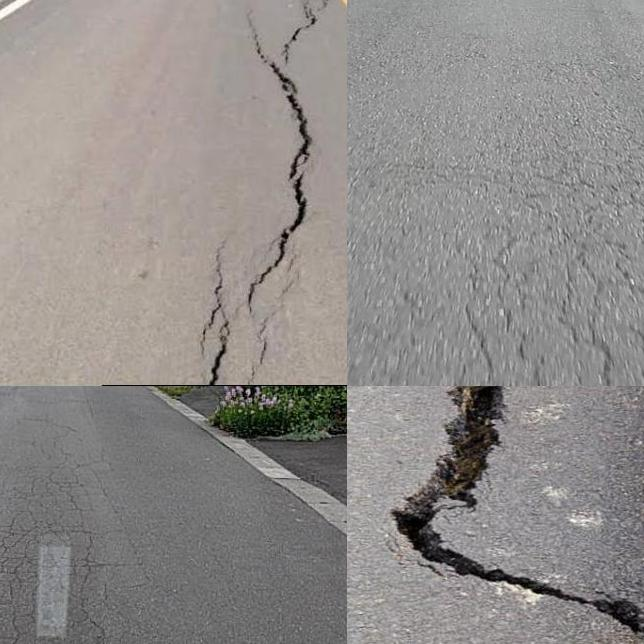Memanjang: (190, 0, 336, 386)
Pinggir: (376, 386, 644, 641)
Retak Buaya: (441, 206, 644, 386), (0, 444, 93, 644)
